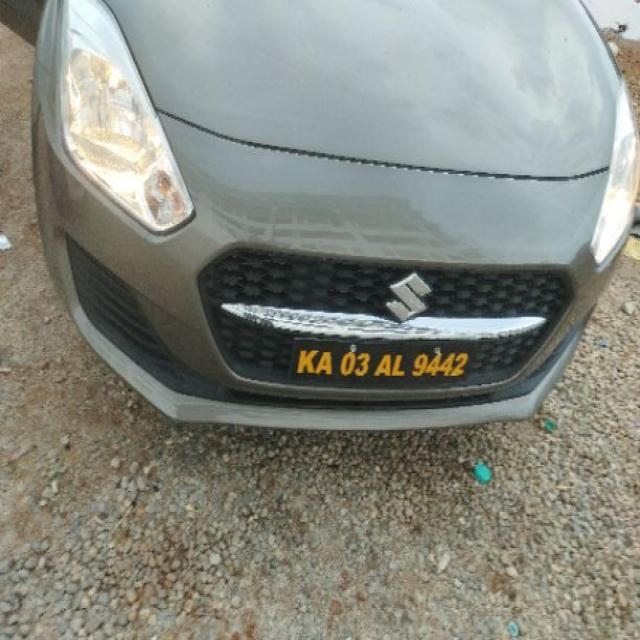license_plate: (30, 0, 639, 433), (196, 243, 575, 399)
